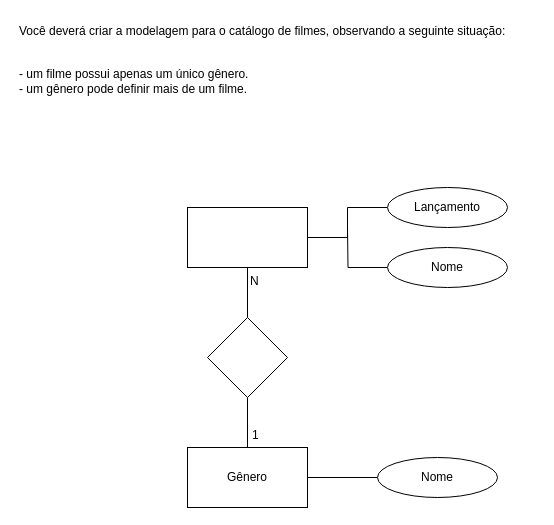
This 554x525 diagram has some shape labels left out. The box of each missing label's shape, as (x1, y1, x2, y2) in pixels:
Filme: (186, 206, 308, 268)
Possui: (206, 316, 288, 398)
